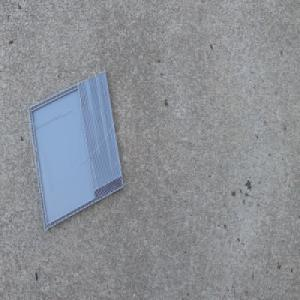PlasticPart: (27, 67, 124, 230)
